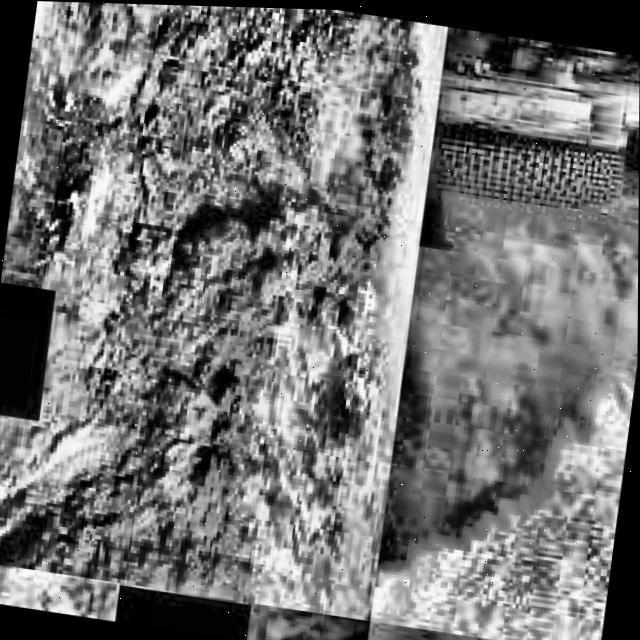buldozerpayloadergrader: (416, 23, 640, 288)
